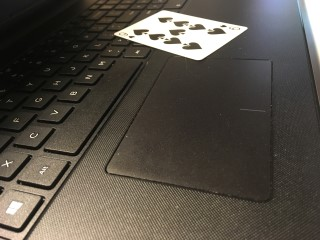NineOfSpades: (113, 9, 248, 60)
